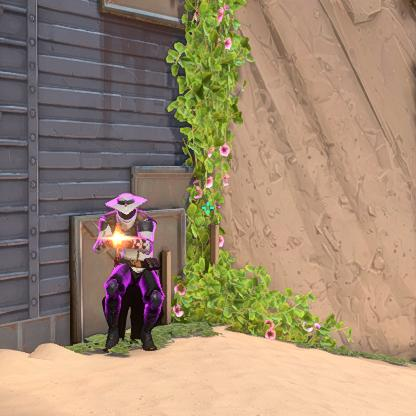enemyBody: (115, 224, 146, 266)
enemyHead: (118, 201, 134, 220)
